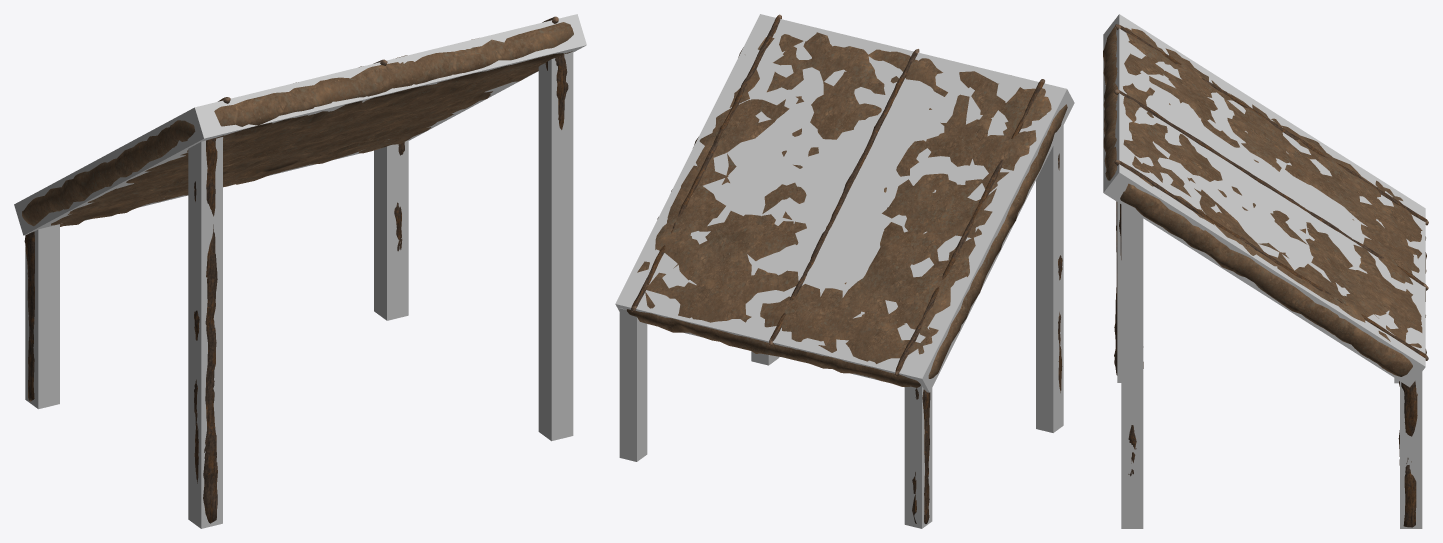
Rendered from SM_mud_wall_mod_06.fbx.
3 views of the same model, side by side, from view 1: azimuth 30°, elevation 25°; view 2: azimuth 150°, elevation 25°; view 3: azimuth 270°, elevation 25° (orthographic). The views are drawn at different scales.
Parts seen in each view (by area): view 1: SM_mud_wall_mod_06_ConvexHulls, SM_mud_wall_mod_06; view 2: SM_mud_wall_mod_06_ConvexHulls, SM_mud_wall_mod_06; view 3: SM_mud_wall_mod_06, SM_mud_wall_mod_06_ConvexHulls.
Boxes of the visible parts, x1,y1,x2,y2 form: SM_mud_wall_mod_06_ConvexHulls: [14, 14, 586, 528]; SM_mud_wall_mod_06: [22, 16, 573, 523]; SM_mud_wall_mod_06_ConvexHulls: [615, 14, 1074, 528]; SM_mud_wall_mod_06: [626, 14, 1067, 523]; SM_mud_wall_mod_06: [1103, 24, 1428, 527]; SM_mud_wall_mod_06_ConvexHulls: [1103, 14, 1425, 528].
Size of the model in its own units: 252 by 213 by 262.
Materials: 3 (2 with a texture image).
